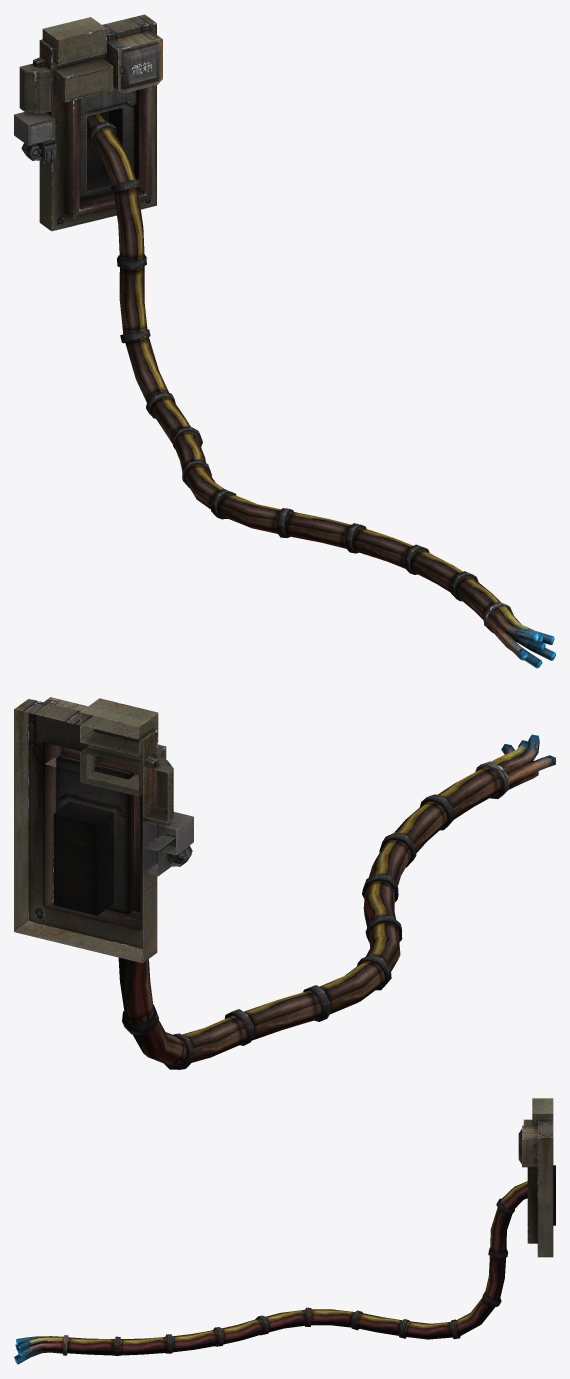
File: glowing_server_cable_posed.dae
3 renders of one model, top to bottom at view 1: azimuth 30°, elevation 25°; view 2: azimuth 150°, elevation 25°; view 3: azimuth 270°, elevation 25°, orthographic. The views are drawn at different scales.
Visible parts, largest first — view 1: Mesh; view 2: Mesh; view 3: Mesh.
Part boxes in pixels (x1,y1,x2,y2): Mesh: [14, 14, 555, 668]; Mesh: [14, 697, 555, 1069]; Mesh: [14, 1098, 555, 1364].
Bounding box in the file's own units: 0.3676 × 0.9208 × 1.91.
